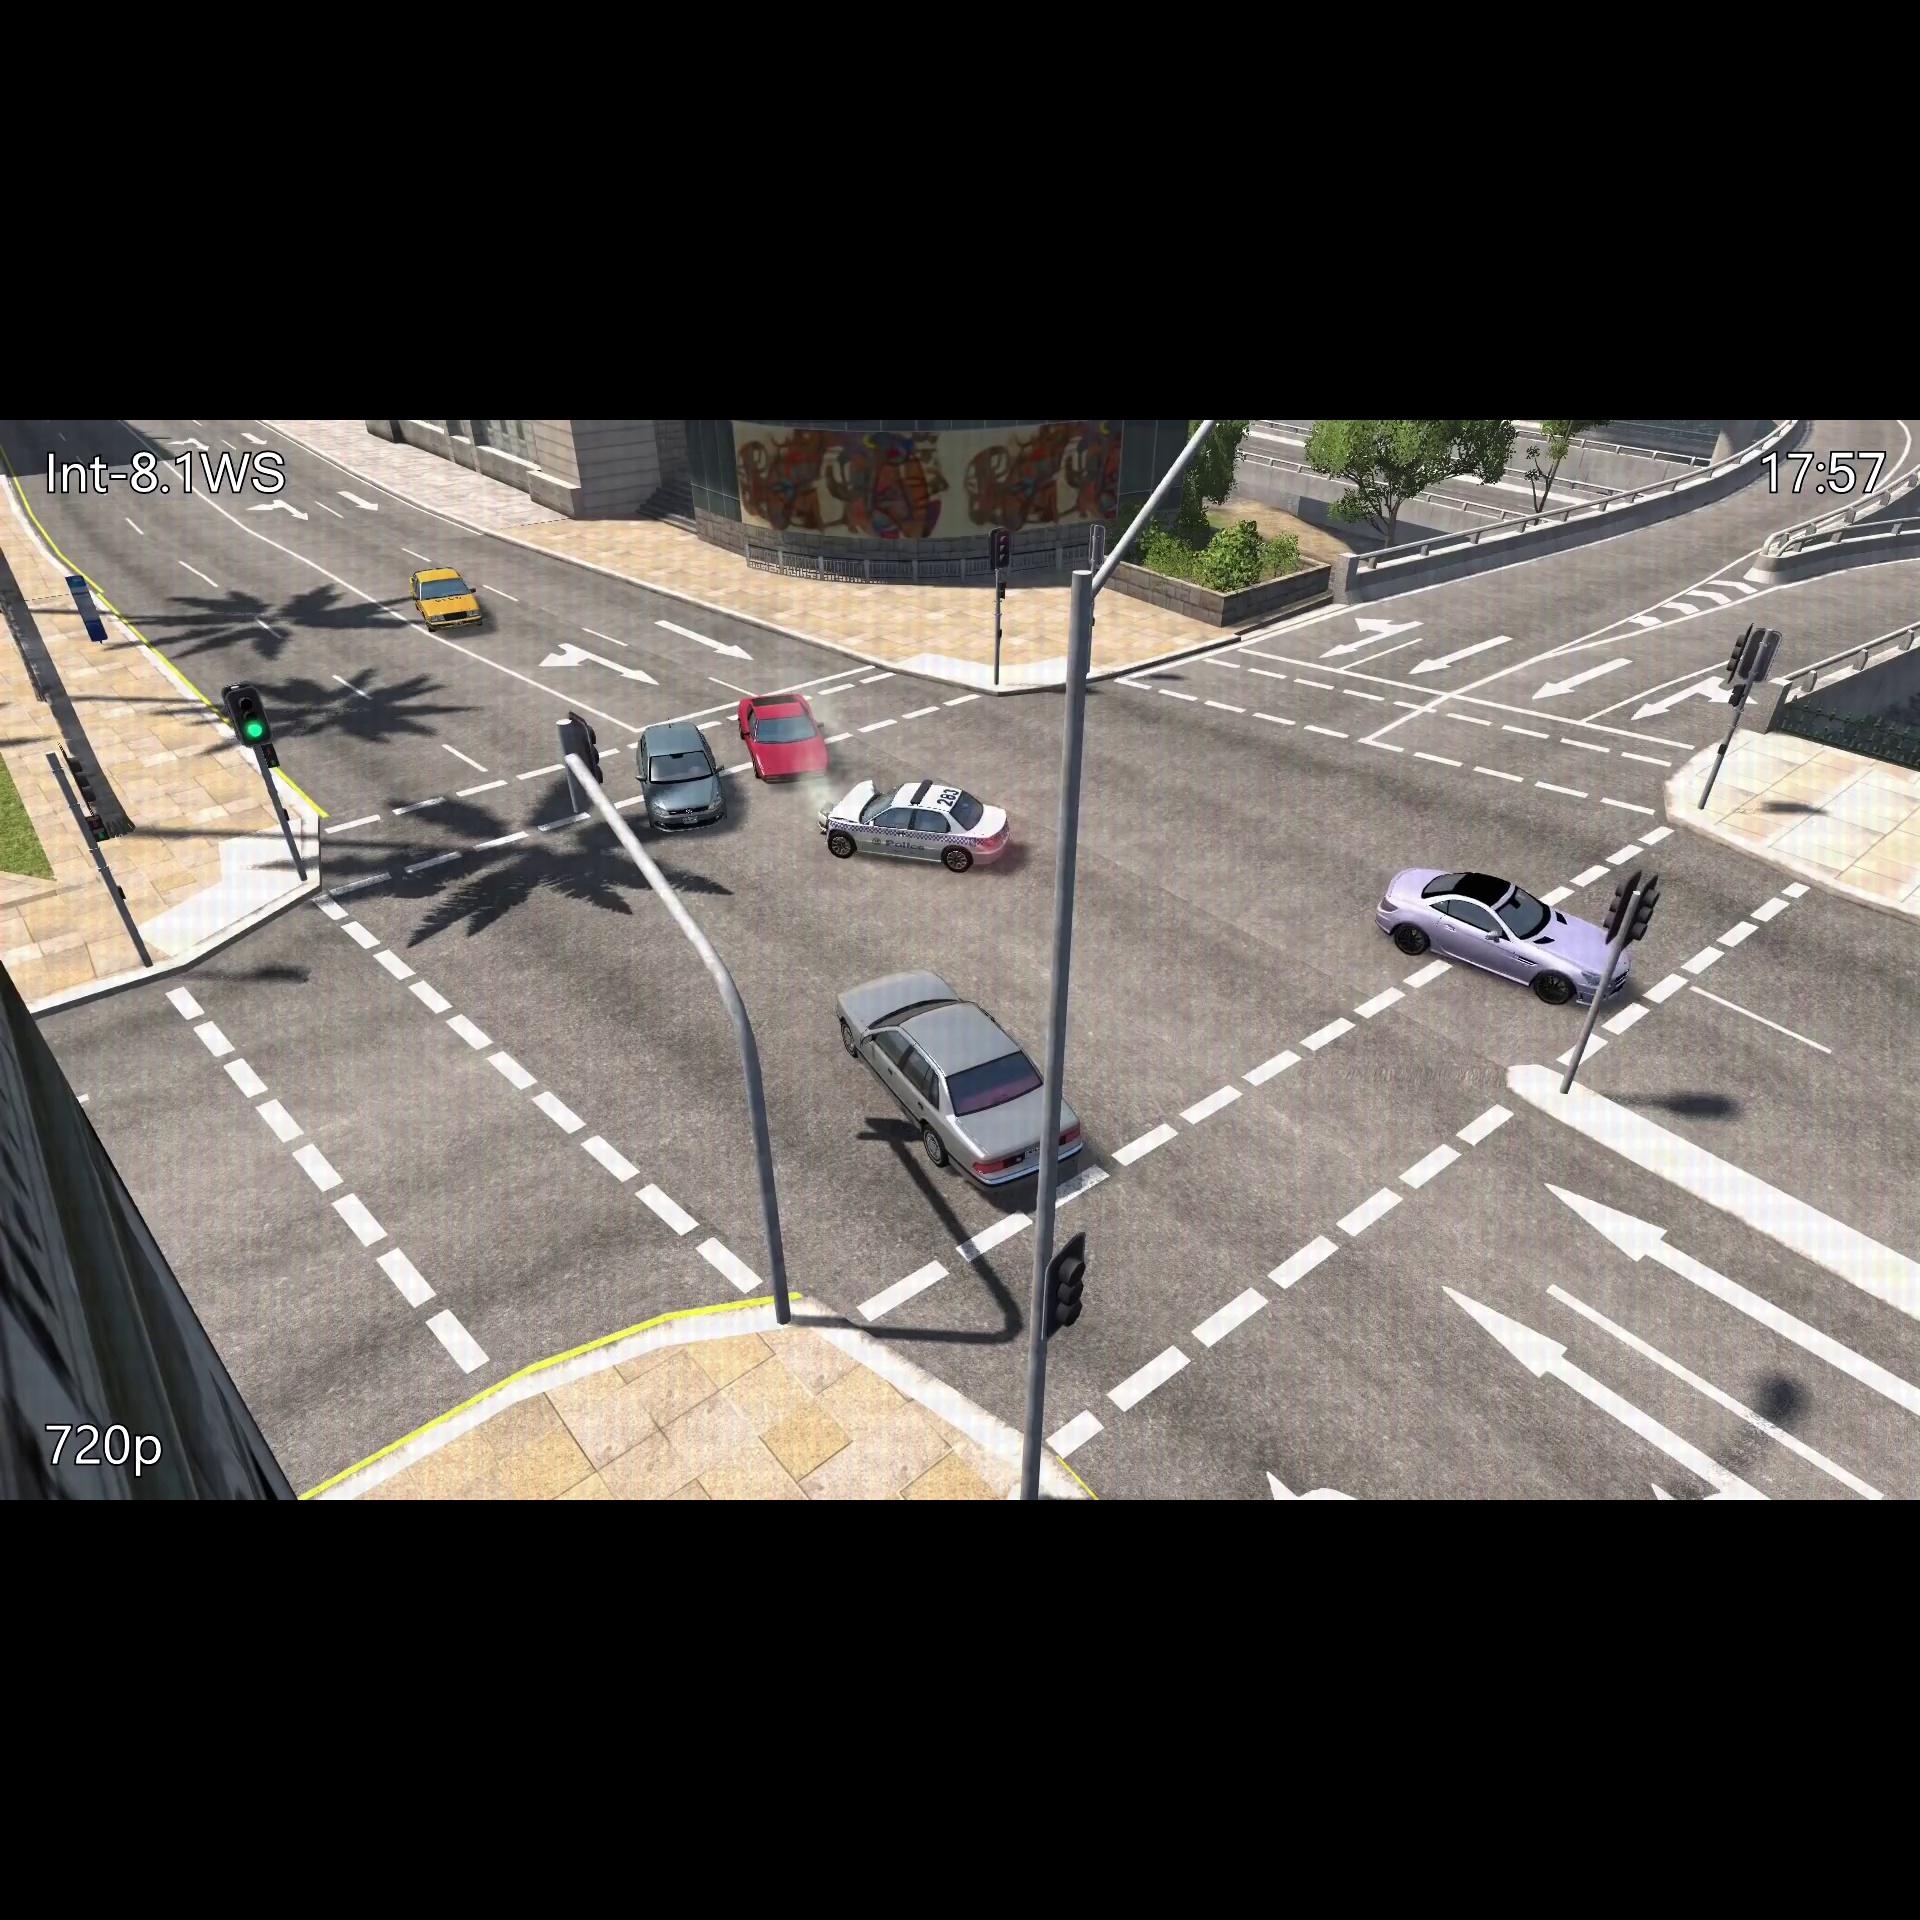vehicle: (828, 956, 1088, 1204), (1359, 855, 1646, 1016), (812, 774, 1016, 879), (631, 714, 730, 842), (731, 686, 832, 795), (404, 563, 489, 642)
